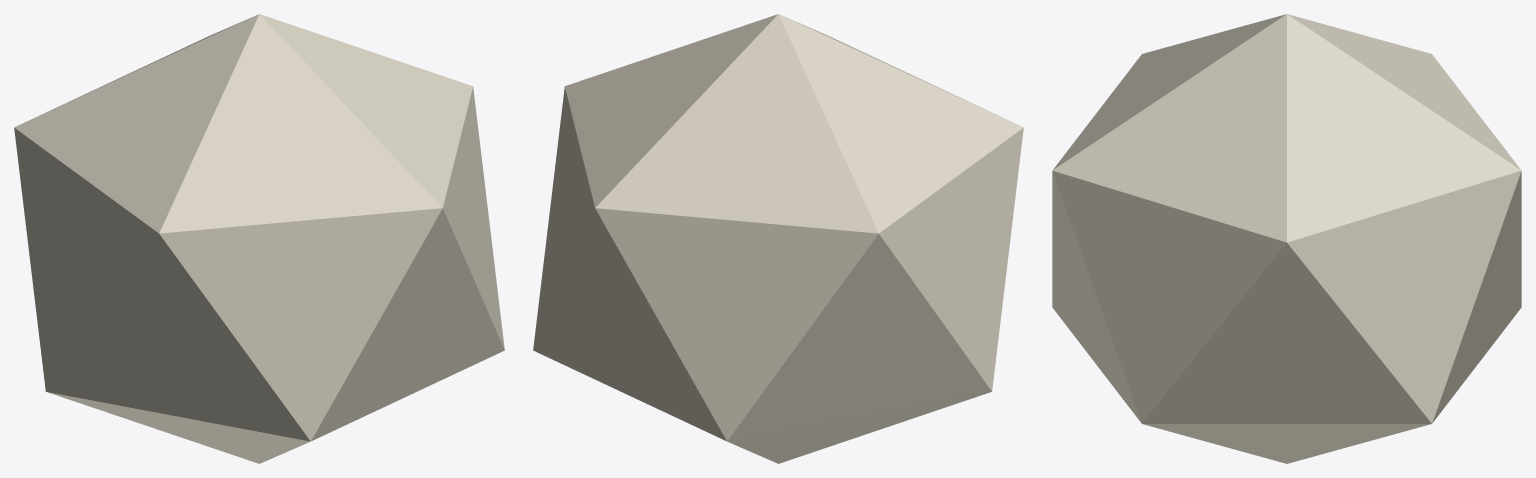
The model's file is fx_smoke_puff.glb.
3 views of the same model, side by side, from view 1: azimuth 30°, elevation 25°; view 2: azimuth 150°, elevation 25°; view 3: azimuth 270°, elevation 25° (orthographic).
Visible parts, largest first — view 1: fx_smoke; view 2: fx_smoke; view 3: fx_smoke.
Boxes of the visible parts, box(x1,y1,x2,y2) form: fx_smoke: box(14, 14, 504, 463); fx_smoke: box(533, 14, 1023, 463); fx_smoke: box(1052, 14, 1521, 463).
Size of the model in its own units: 0.2147 by 0.216 by 0.2042.
